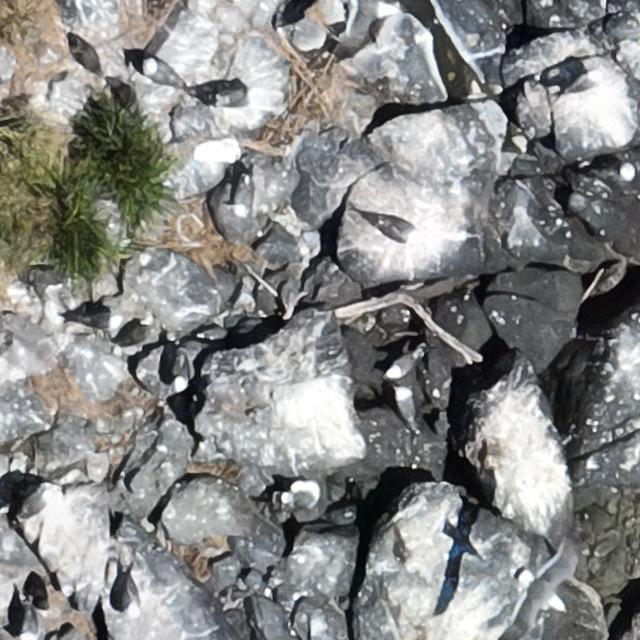F: (514, 551, 576, 627)
umineko: (274, 480, 322, 513), (112, 568, 144, 616), (559, 70, 605, 98), (589, 162, 634, 184), (112, 325, 151, 347), (19, 598, 39, 639), (76, 311, 120, 329), (175, 349, 192, 395), (379, 219, 414, 241), (145, 60, 177, 84), (388, 354, 418, 378), (213, 86, 248, 105), (232, 180, 252, 213), (398, 391, 415, 423)
